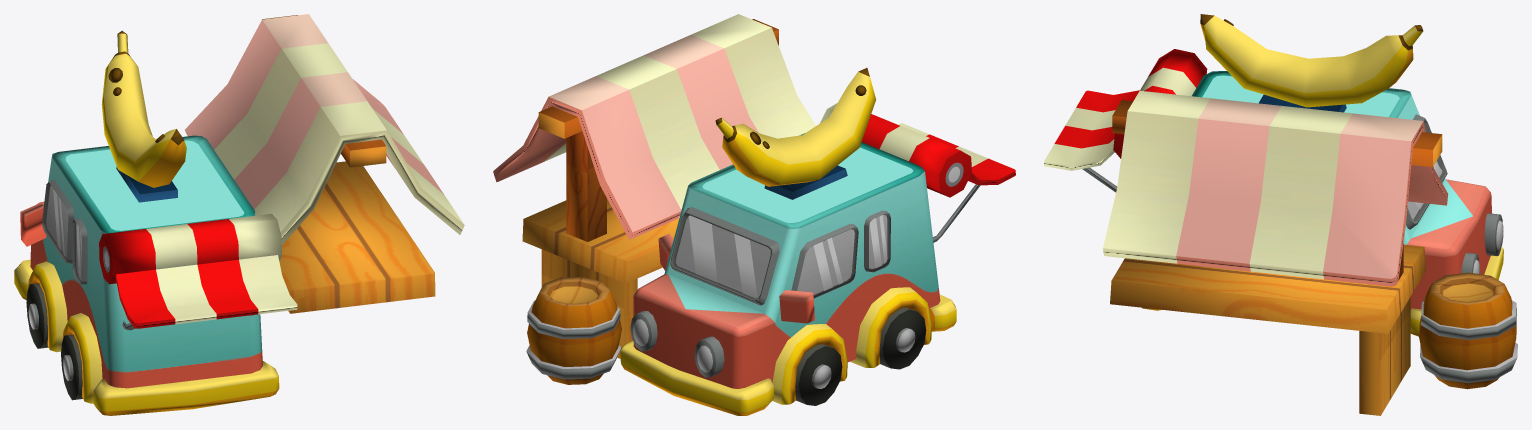
The model's file is BazaarOdysseyStatue.fbx.
3 views of the same model, side by side, from view 1: azimuth 30°, elevation 25°; view 2: azimuth 150°, elevation 25°; view 3: azimuth 270°, elevation 25° (orthographic). The views are drawn at different scales.
Visible parts, largest first — view 1: BazaarOdysseyStatue; view 2: BazaarOdysseyStatue; view 3: BazaarOdysseyStatue.
Boxes of the visible parts, <box> form: BazaarOdysseyStatue: <box>14,14,464,415</box>; BazaarOdysseyStatue: <box>493,14,1015,415</box>; BazaarOdysseyStatue: <box>1044,14,1517,415</box>.
Size of the model in its own units: 21.35 by 14.5 by 21.51.
